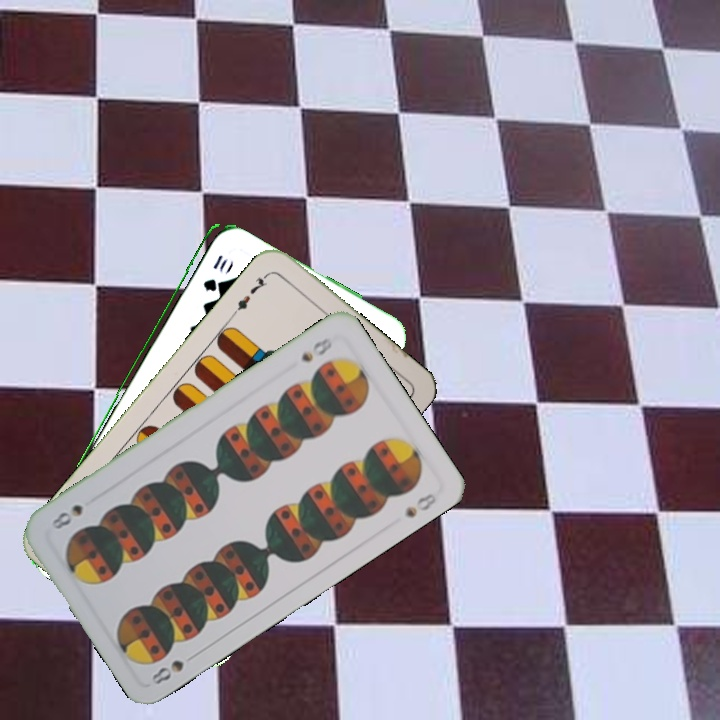E7: (228, 269, 272, 318)
G10: (198, 251, 230, 294)
S8: (147, 648, 201, 688), (296, 333, 335, 365)
